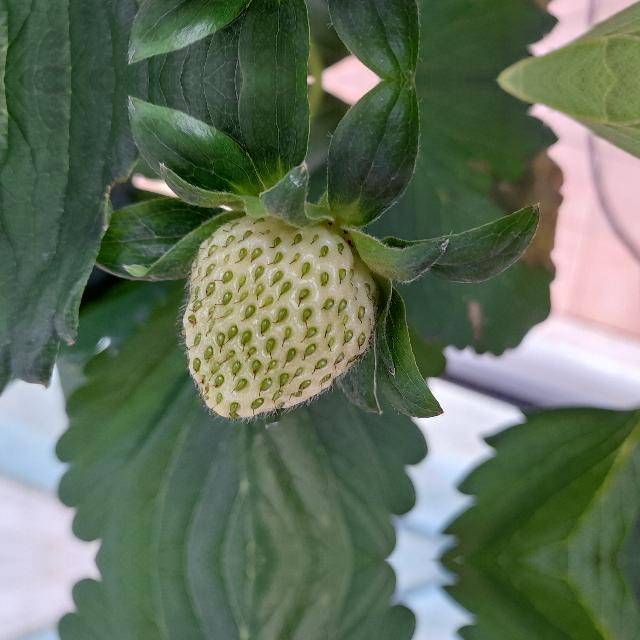Health_25: (182, 214, 378, 420)
